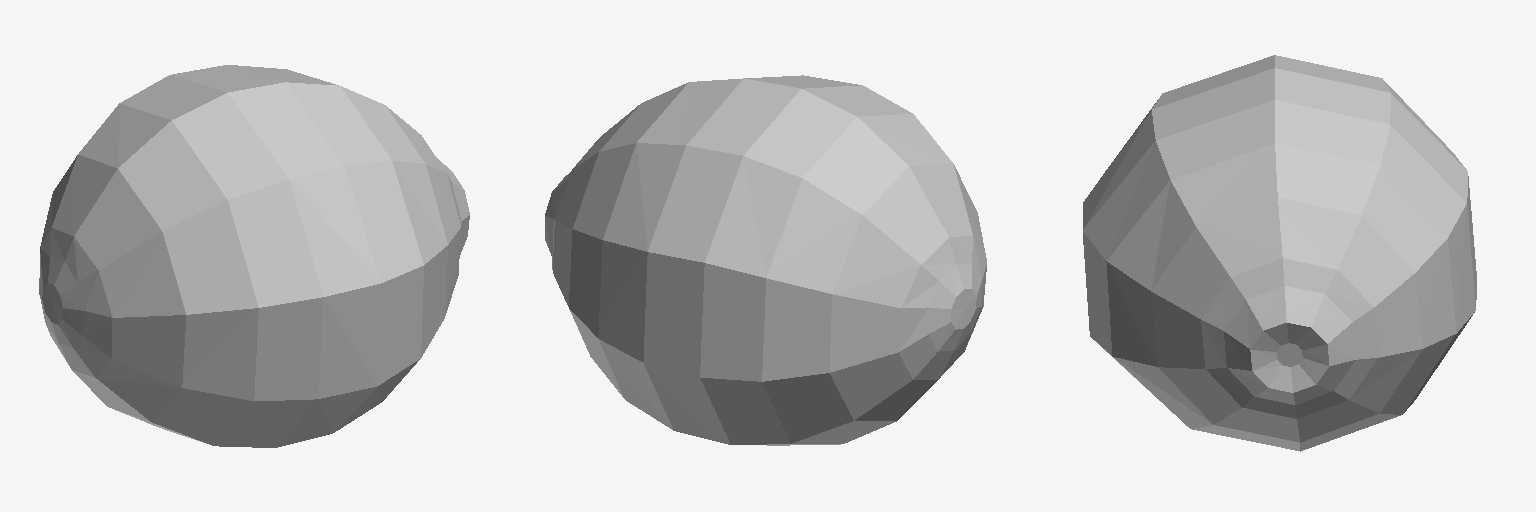
Rendered from Limon.obj.
3 renders of one model, left to right at view 1: azimuth 30°, elevation 25°; view 2: azimuth 150°, elevation 25°; view 3: azimuth 270°, elevation 25°, orthographic.
Parts seen in each view (by area): view 1: Limones.001_lemon(quads).001; view 2: Limones.001_lemon(quads).001; view 3: Limones.001_lemon(quads).001.
Boxes of the visible parts, x1,y1,x2,y2 form: Limones.001_lemon(quads).001: [39, 65, 469, 447]; Limones.001_lemon(quads).001: [545, 75, 986, 445]; Limones.001_lemon(quads).001: [1083, 55, 1476, 451].
Size of the model in its own units: 0.1315 by 0.1082 by 0.112.